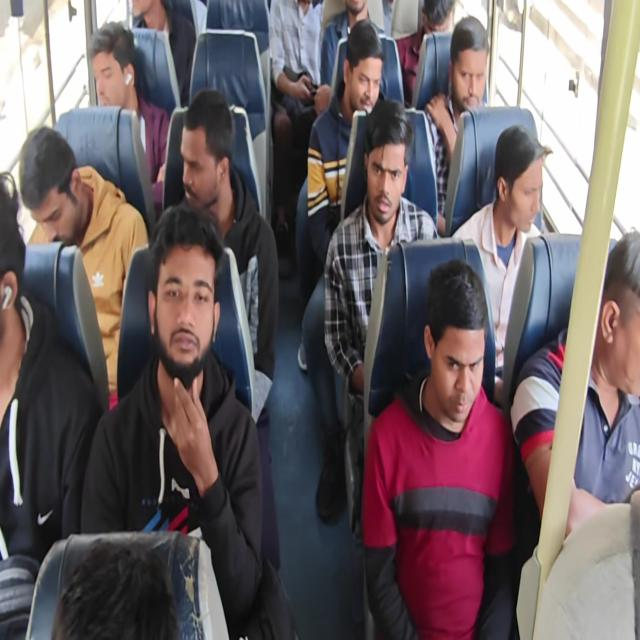person: (67, 541, 176, 640), (156, 230, 214, 388), (173, 88, 235, 228), (18, 133, 94, 246), (594, 242, 640, 418), (429, 280, 485, 408), (491, 130, 552, 242), (0, 166, 34, 354), (83, 18, 139, 114), (454, 26, 499, 116), (343, 49, 379, 117), (375, 130, 401, 224), (415, 0, 461, 50), (128, 0, 168, 39), (334, 0, 367, 26)
